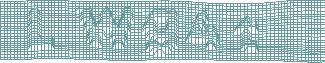4: (185, 9, 221, 54)
L: (27, 7, 56, 51)
W: (75, 5, 137, 51)
g: (142, 7, 180, 57)
t: (232, 14, 261, 56)
